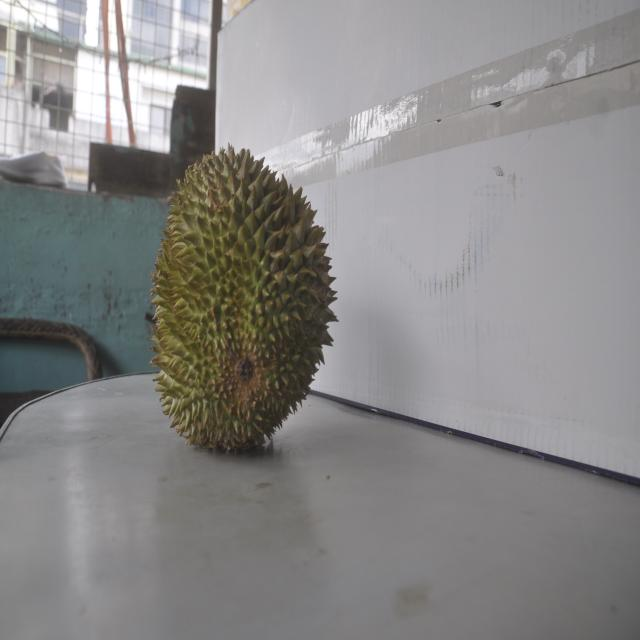mature: (147, 142, 335, 453)
